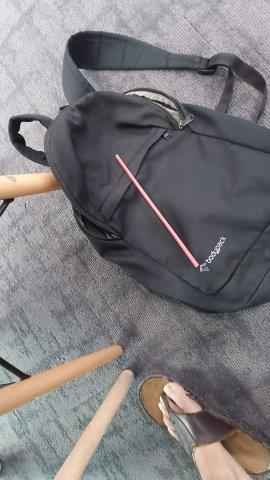sedotan: (115, 154, 199, 268)
